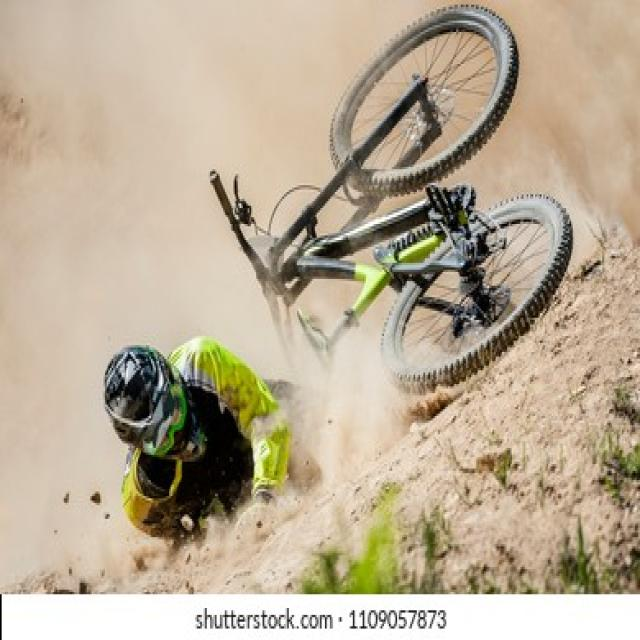accident: (210, 0, 573, 398)
